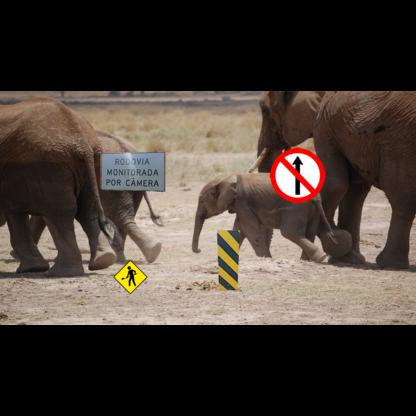A-24: (113, 260, 147, 294)
I-E: (101, 151, 165, 192)
O-MP: (217, 230, 240, 290)
R-3: (270, 148, 325, 203)
